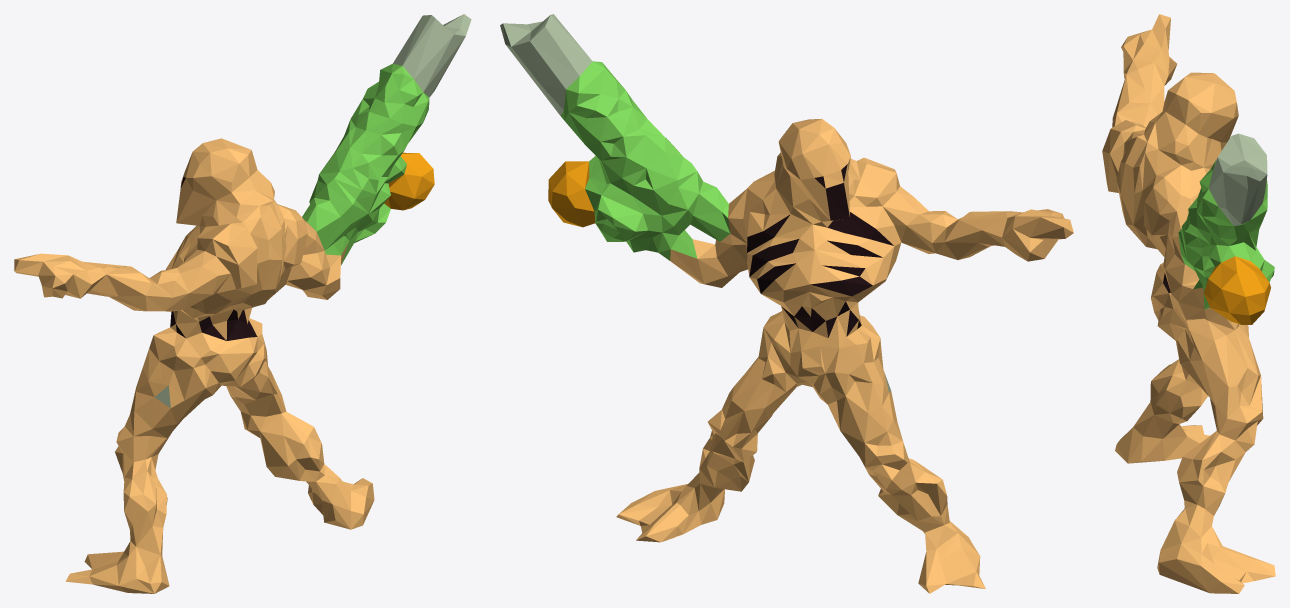
File: marro_warrior_1_low_poly_colored.glb
3 views of the same model, side by side, from view 1: azimuth 30°, elevation 25°; view 2: azimuth 150°, elevation 25°; view 3: azimuth 270°, elevation 25° (orthographic). The views are drawn at different scales.
Visible parts, largest first — view 1: Marro_Warriors_-_1_Scanned; view 2: Marro_Warriors_-_1_Scanned; view 3: Marro_Warriors_-_1_Scanned.
Part boxes in pixels (x1,y1,x2,y2): Marro_Warriors_-_1_Scanned: (14, 14, 471, 593); Marro_Warriors_-_1_Scanned: (500, 14, 1073, 593); Marro_Warriors_-_1_Scanned: (1102, 14, 1275, 593).
Bounding box in the file's own units: 1.77 × 1.56 × 0.4943.
